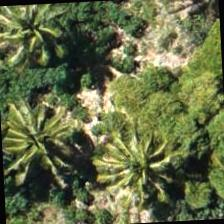Kelapa_Sawit: (105, 128, 200, 222), (0, 90, 90, 185), (0, 2, 69, 67)
